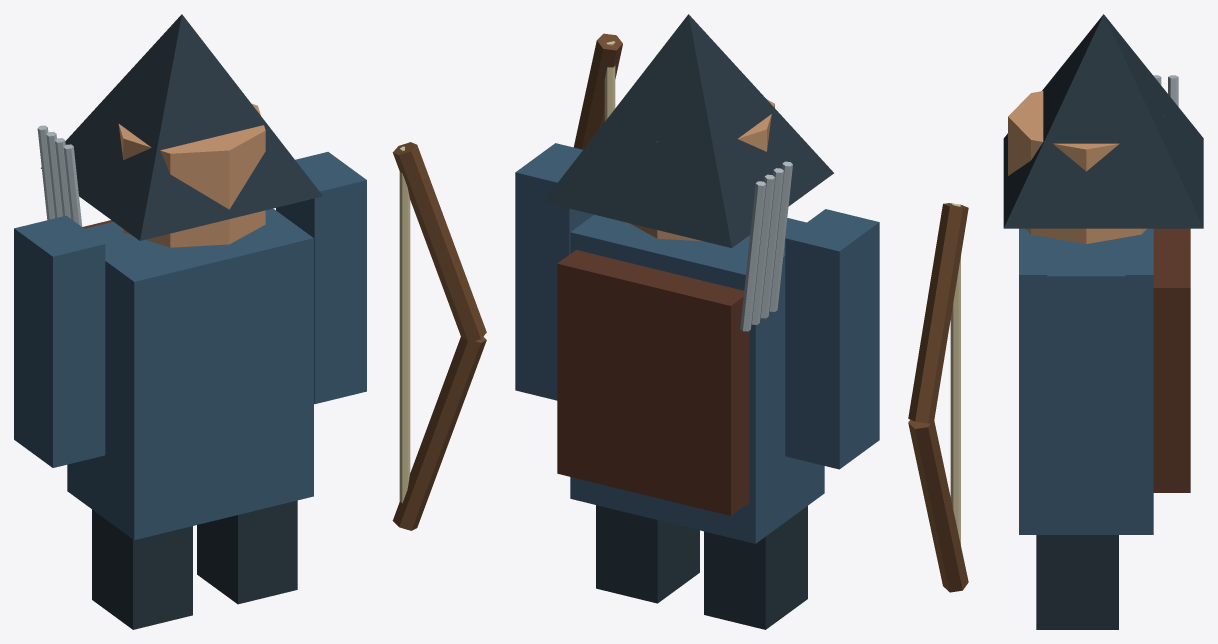
Rendered from ranged.obj.
3 views of the same model, side by side, from view 1: azimuth 30°, elevation 25°; view 2: azimuth 150°, elevation 25°; view 3: azimuth 270°, elevation 25° (orthographic). The views are drawn at different scales.
Visible parts, largest first — view 1: ranged; view 2: ranged; view 3: ranged.
Part boxes in pixels (<box>): ranged: <box>14,14,486,629</box>; ranged: <box>515,14,879,629</box>; ranged: <box>908,14,1203,629</box>.
Size of the model in its own units: 0.985 by 1.46 by 0.6796.
